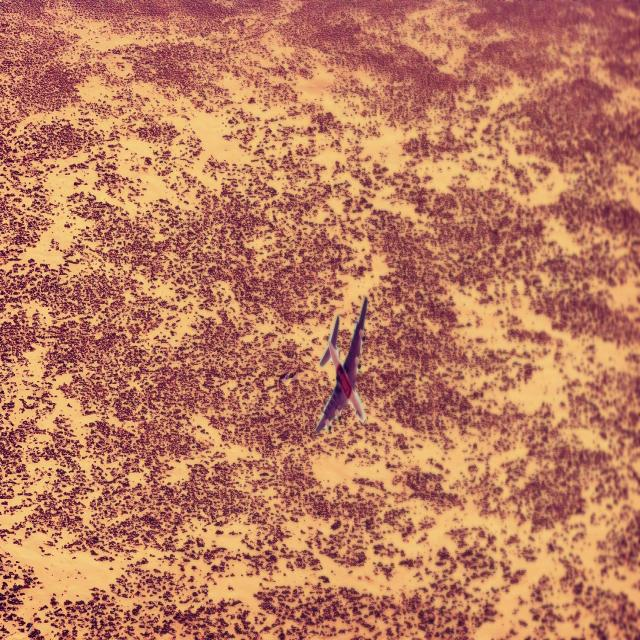airplane: (314, 295, 368, 434)
